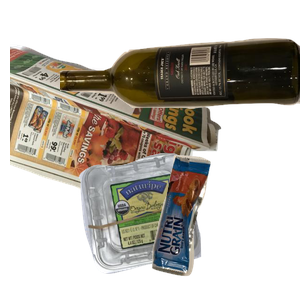glass: (60, 36, 300, 147)
paper: (10, 42, 224, 222)
plastic: (76, 151, 270, 300)
trash: (149, 152, 300, 300)
